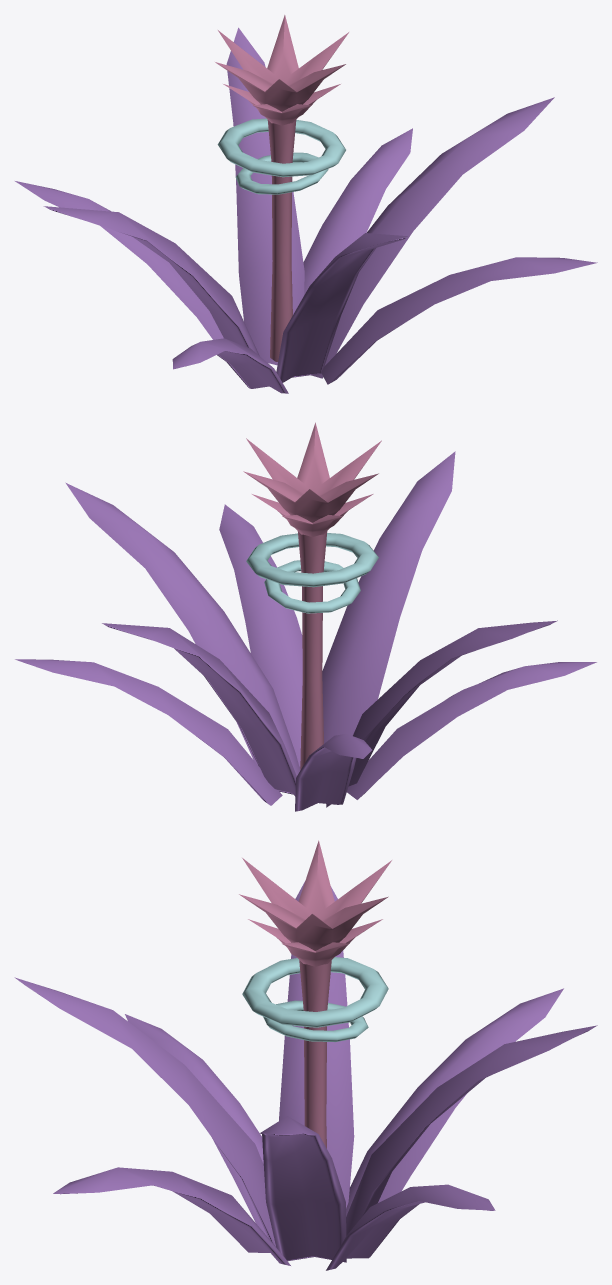
File: planetPlant_stage2.fbx
3 renders of one model, top to bottom at view 1: azimuth 30°, elevation 25°; view 2: azimuth 150°, elevation 25°; view 3: azimuth 270°, elevation 25°, orthographic. The views are drawn at different scales.
Parts seen in each view (by area): view 1: papple_leaf02, papple_leaf06, papple_leaf01, papple_leaf08, papple_leaf04, papple_stemLeaf02, papple_leaf05, papple_stem, papple_stemRing01, papple_leaf07, papple_leaf03, papple_stemRing02 (+1 smaller); view 2: papple_leaf01, papple_leaf06, papple_leaf08, papple_leaf02, papple_leaf04, papple_leaf03, papple_stemLeaf02, papple_leaf05, papple_stem, papple_leaf07, papple_stemRing01, papple_stemRing02 (+1 smaller); view 3: papple_leaf06, papple_leaf01, papple_leaf05, papple_leaf02, papple_leaf07, papple_stemLeaf02, papple_leaf08, papple_stemRing01, papple_leaf04, papple_stem, papple_leaf03, papple_stemRing02 (+1 smaller).
Part boxes in pixels (left/top/right/bottom): papple_leaf02: left=226, top=27, right=304, bottom=365; papple_leaf06: left=311, top=97, right=554, bottom=378; papple_leaf01: left=276, top=233, right=407, bottom=382; papple_leaf08: left=321, top=257, right=597, bottom=384; papple_leaf04: left=303, top=128, right=412, bottom=294; papple_stemLeaf02: left=215, top=15, right=348, bottom=111; papple_leaf05: left=43, top=206, right=259, bottom=355; papple_stem: left=267, top=120, right=296, bottom=361; papple_stemRing01: left=217, top=118, right=345, bottom=177; papple_leaf07: left=15, top=181, right=223, bottom=339; papple_leaf03: left=172, top=338, right=288, bottom=393; papple_stemRing02: left=235, top=152, right=328, bottom=194; papple_leaf01: left=322, top=451, right=455, bottom=743; papple_leaf06: left=65, top=482, right=300, bottom=775; papple_leaf08: left=219, top=504, right=302, bottom=766; papple_leaf02: left=102, top=623, right=296, bottom=796; papple_leaf04: left=15, top=659, right=282, bottom=805; papple_leaf03: left=347, top=662, right=596, bottom=799; papple_stemLeaf02: left=243, top=422, right=381, bottom=522; papple_leaf05: left=326, top=620, right=557, bottom=807; papple_stem: left=297, top=531, right=327, bottom=769; papple_leaf07: left=295, top=734, right=371, bottom=811; papple_stemRing01: left=246, top=533, right=378, bottom=587; papple_stemRing02: left=264, top=560, right=360, bottom=613; papple_leaf06: left=260, top=1116, right=346, bottom=1262; papple_leaf01: left=14, top=977, right=275, bottom=1246; papple_leaf05: left=279, top=881, right=354, bottom=1208; papple_leaf02: left=346, top=1025, right=597, bottom=1235; papple_leaf07: left=346, top=988, right=563, bottom=1216; papple_stemLeaf02: left=239, top=840, right=391, bottom=950; papple_leaf08: left=53, top=1167, right=290, bottom=1265; papple_stemRing01: left=242, top=957, right=388, bottom=1027; papple_leaf04: left=326, top=1184, right=495, bottom=1270; papple_stem: left=299, top=960, right=331, bottom=1148; papple_leaf03: left=125, top=1014, right=267, bottom=1236; papple_stemRing02: left=263, top=1000, right=368, bottom=1042.
Size of the model in its own units: 9.76 by 6.19 by 8.76.
